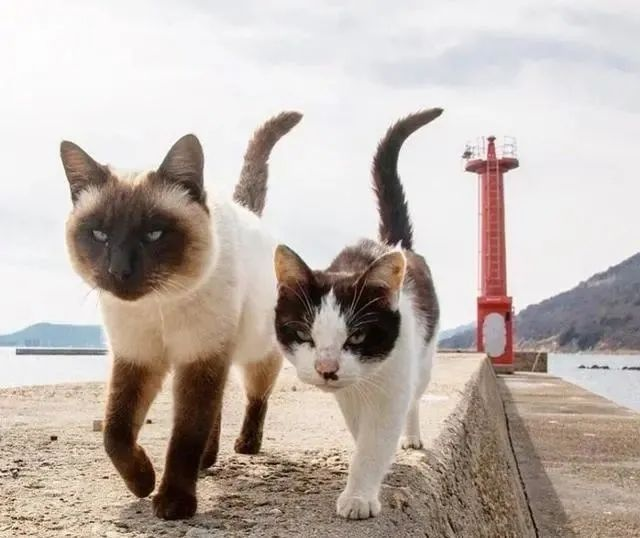cat: (59, 110, 303, 522), (273, 106, 445, 519)
